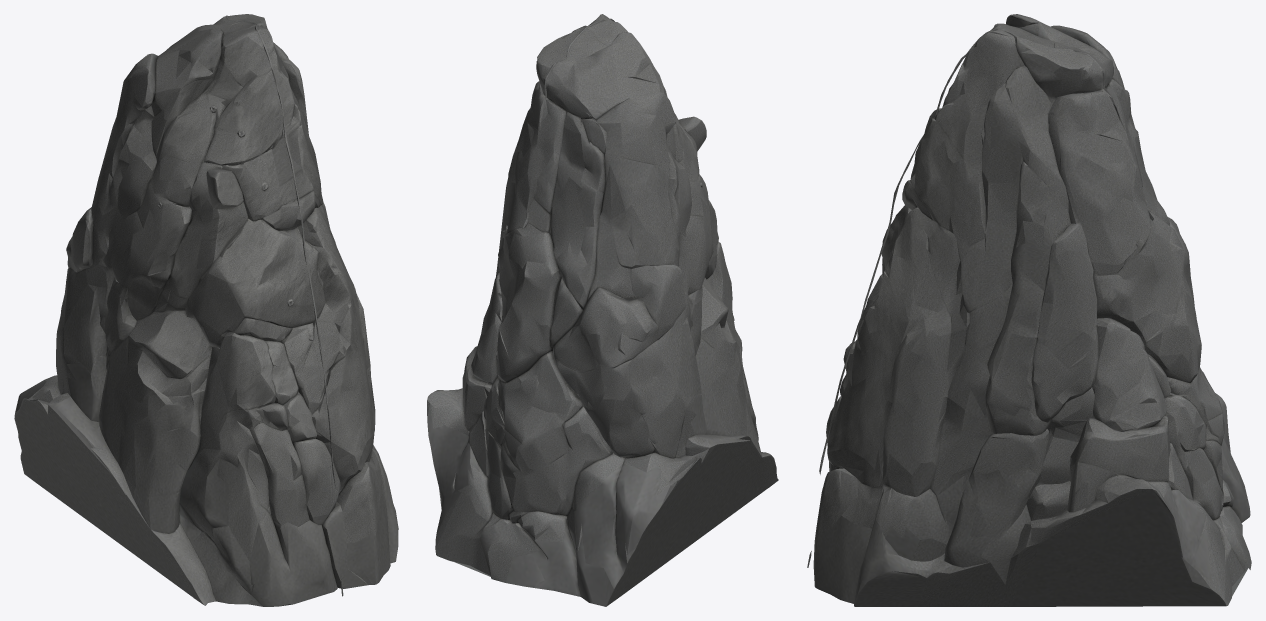
File: crag.glb
The picture shows the model from 3 angles, left to right: view 1: azimuth 30°, elevation 25°; view 2: azimuth 150°, elevation 25°; view 3: azimuth 270°, elevation 25°; orthographic projection. The views are drawn at different scales.
Bounding box in the file's own units: 1.08 × 1.9 × 1.41.
1 material, 1 textured.
